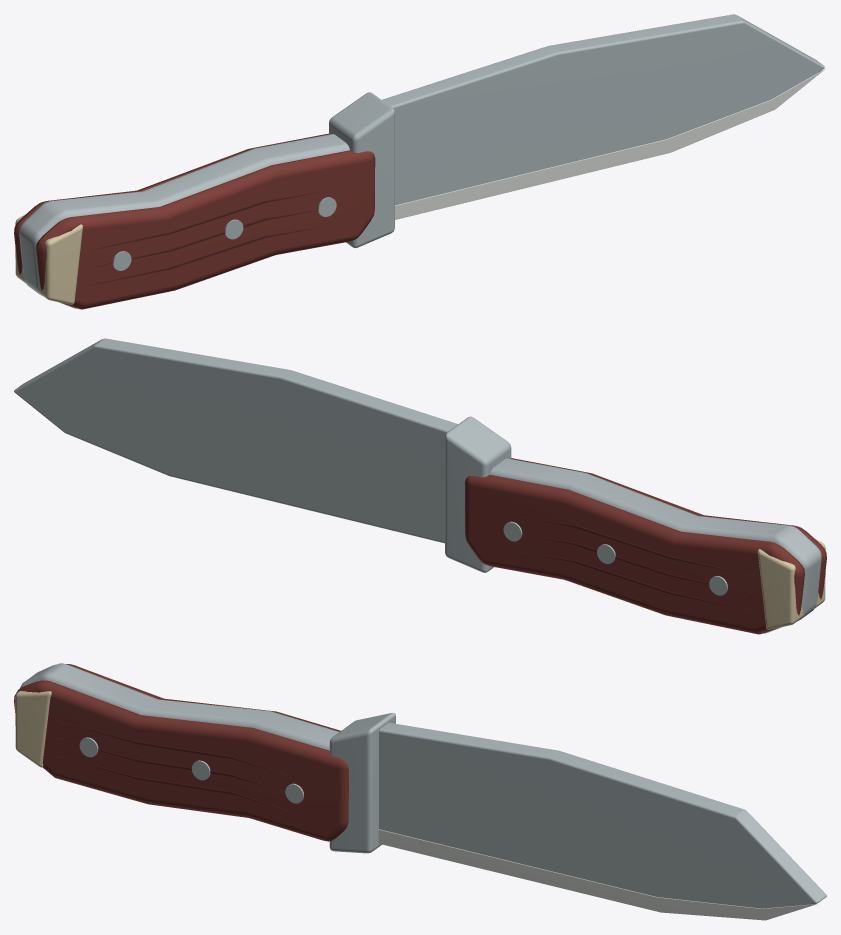
File: utility.glb
3 renders of one model, top to bottom at view 1: azimuth 30°, elevation 25°; view 2: azimuth 150°, elevation 25°; view 3: azimuth 330°, elevation 25°, orthographic.
Visible parts, largest first — view 1: Balanced rising utility blade, Sculpted winewood handle scale, Continuous honed lower facet, Angled ivory heel, Fine curved wood grain; view 2: Balanced rising utility blade, Sculpted winewood handle scale, Angled ivory heel, Fine curved wood grain; view 3: Balanced rising utility blade, Sculpted winewood handle scale, Continuous honed lower facet, Angled ivory heel, Fine curved wood grain.
Boxes of the visible parts, x1,y1,x2,y2 form: Balanced rising utility blade: (19, 14, 824, 308); Sculpted winewood handle scale: (14, 133, 375, 309); Continuous honed lower facet: (395, 68, 826, 219); Angled ivory heel: (15, 215, 82, 304); Fine curved wood grain: (88, 192, 319, 285); Balanced rising utility blade: (14, 338, 821, 633); Sculpted winewood handle scale: (464, 458, 826, 634); Angled ivory heel: (757, 539, 825, 629); Fine curved wood grain: (521, 517, 752, 610); Balanced rising utility blade: (20, 663, 826, 908); Sculpted winewood handle scale: (14, 664, 348, 841); Continuous honed lower facet: (378, 829, 816, 920); Angled ivory heel: (15, 691, 51, 767); Fine curved wood grain: (56, 720, 287, 810).
Size of the model in its own units: 2.13 by 0.36 by 0.159.
